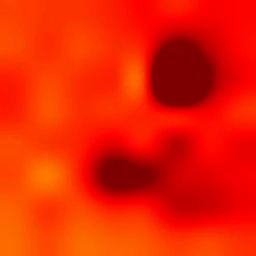person: (98, 136, 228, 219)
